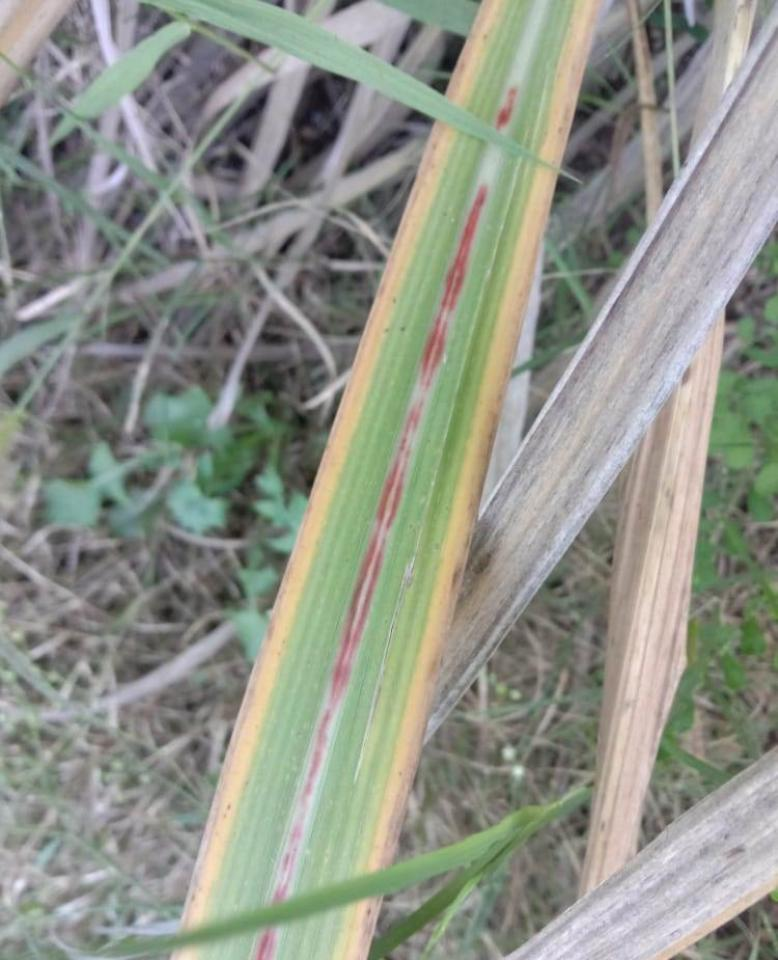RedRot: (270, 181, 489, 901), (494, 86, 520, 134), (255, 925, 282, 959)
Yellow: (175, 117, 457, 932), (366, 165, 558, 869), (539, 0, 604, 170), (445, 0, 505, 108), (339, 894, 383, 959), (171, 942, 201, 959)
